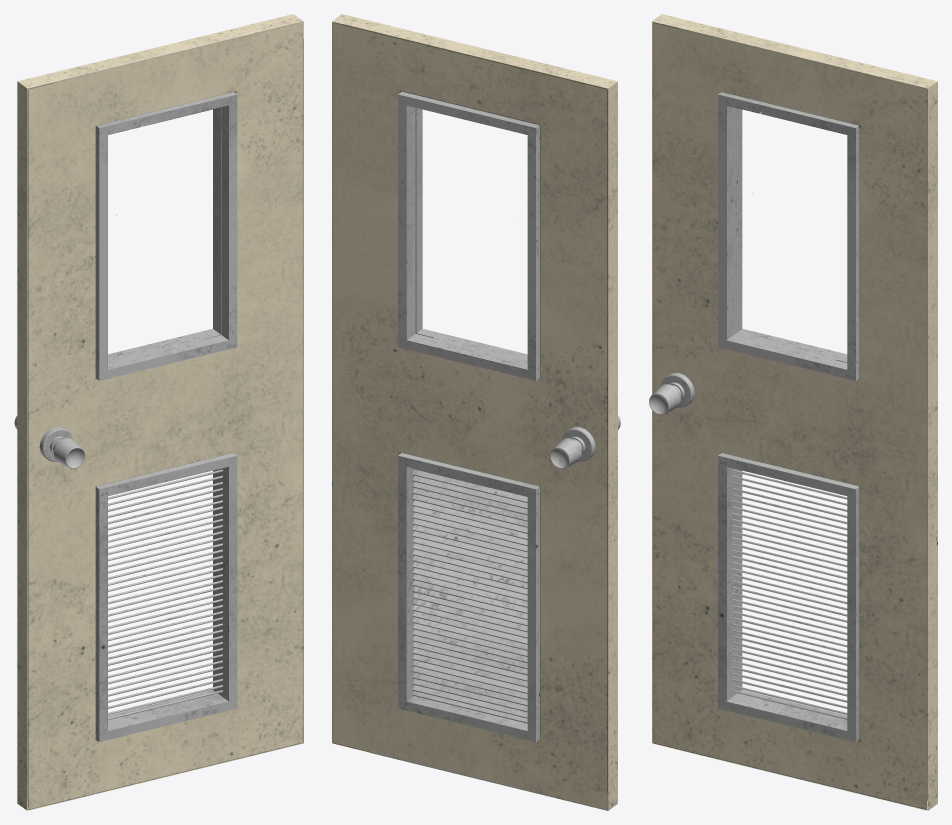
Rendered from door.fbx.
3 renders of one model, left to right at view 1: azimuth 30°, elevation 25°; view 2: azimuth 150°, elevation 25°; view 3: azimuth 330°, elevation 25°, orthographic.
Parts seen in each view (by area): view 1: pCylinder8; view 2: pCylinder8; view 3: pCylinder8.
Boxes of the visible parts, x1=… form: pCylinder8: x1=14, y1=14, x2=303, y2=810; pCylinder8: x1=332, y1=14, x2=620, y2=810; pCylinder8: x1=649, y1=14, x2=937, y2=810.
Bounding box in the file's own units: 80 × 200 × 25.71.
1 material, 1 textured.
